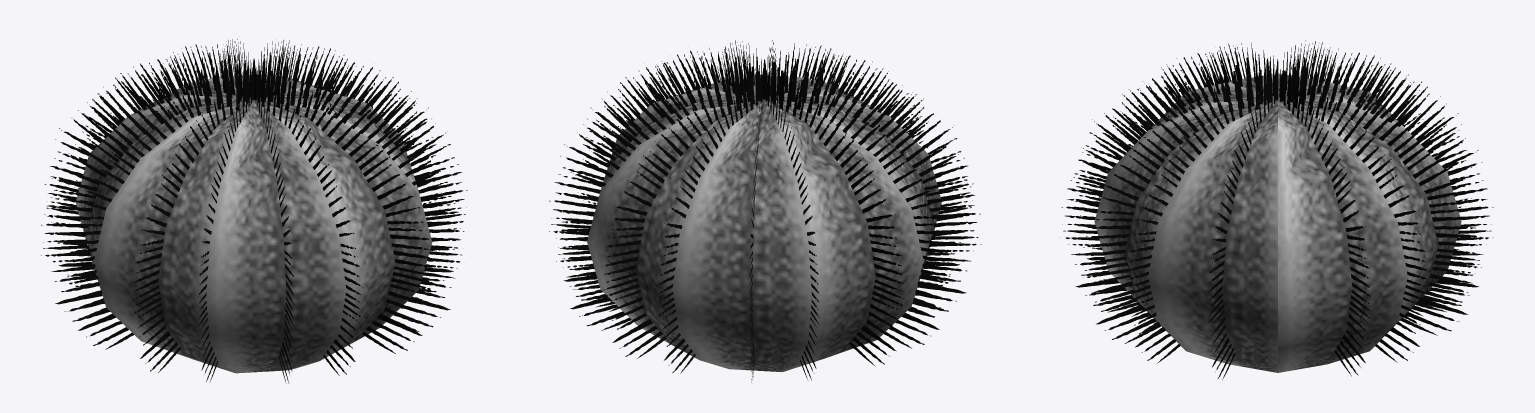
The model's file is urchinHairShortBlack.fbx.
The picture shows the model from 3 angles, left to right: view 1: azimuth 30°, elevation 25°; view 2: azimuth 150°, elevation 25°; view 3: azimuth 270°, elevation 25°; orthographic projection.
Visible parts, largest first — view 1: urchinWithHairShortBlack; view 2: urchinWithHairShortBlack; view 3: urchinWithHairShortBlack.
Part boxes in pixels (x1,y1,x2,y2): urchinWithHairShortBlack: (41, 38, 467, 383); urchinWithHairShortBlack: (549, 40, 981, 382); urchinWithHairShortBlack: (1060, 40, 1493, 379).
Size of the model in its own units: 0.1402 by 0.0963 by 0.1402.
1 material, 1 textured.
